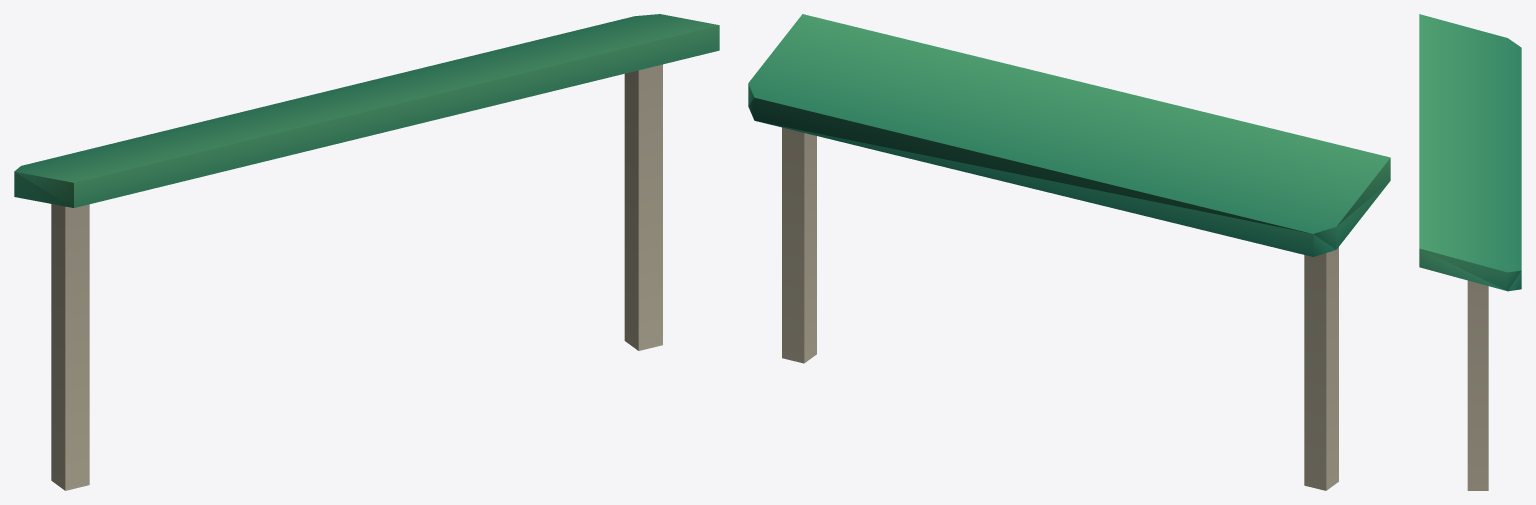
Rendered from detail-awning-wide.glb.
3 views of the same model, side by side, from view 1: azimuth 30°, elevation 25°; view 2: azimuth 150°, elevation 25°; view 3: azimuth 270°, elevation 25° (orthographic). The views are drawn at different scales.
Visible parts, largest first — view 1: detail-awning-wide; view 2: detail-awning-wide; view 3: detail-awning-wide.
Part boxes in pixels (bbox=[...]): detail-awning-wide: bbox=[14, 14, 719, 490]; detail-awning-wide: bbox=[748, 14, 1390, 490]; detail-awning-wide: bbox=[1419, 14, 1521, 490].
Size of the model in its own units: 8 by 4 by 1.48.
